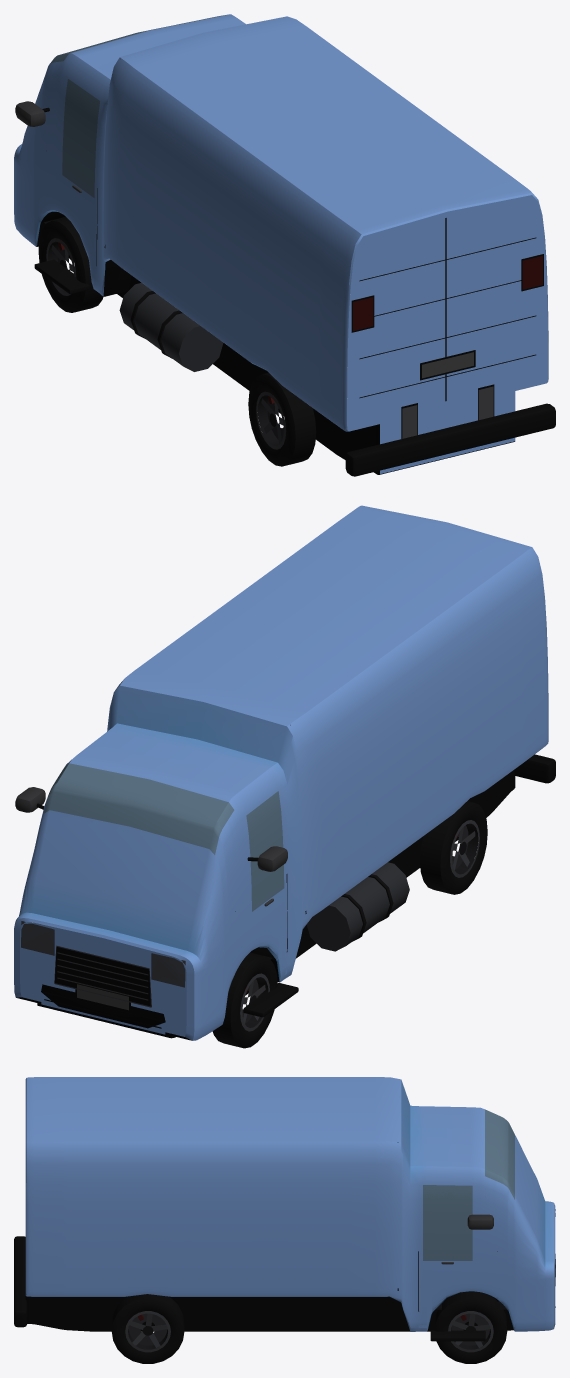
Rendered from cv2_boxtruck.glb.
3 views of the same model, one above another, from view 1: azimuth 30°, elevation 25°; view 2: azimuth 150°, elevation 25°; view 3: azimuth 270°, elevation 25° (orthographic). The views are drawn at different scales.
Parts seen in each view (by area): view 1: Body, DoorL_Mesh; view 2: Body, DoorL_Mesh; view 3: Body, DoorR_Mesh.
Boxes of the visible parts, x1,y1,x2,y2 form: Body: [14, 14, 555, 476]; DoorL_Mesh: [46, 75, 101, 283]; Body: [14, 505, 555, 1048]; DoorL_Mesh: [232, 804, 286, 974]; Body: [14, 1077, 555, 1363]; DoorR_Mesh: [418, 1185, 497, 1327].
Size of what is drawn, in the model's own units: 2.79 by 2.96 by 6.55.
